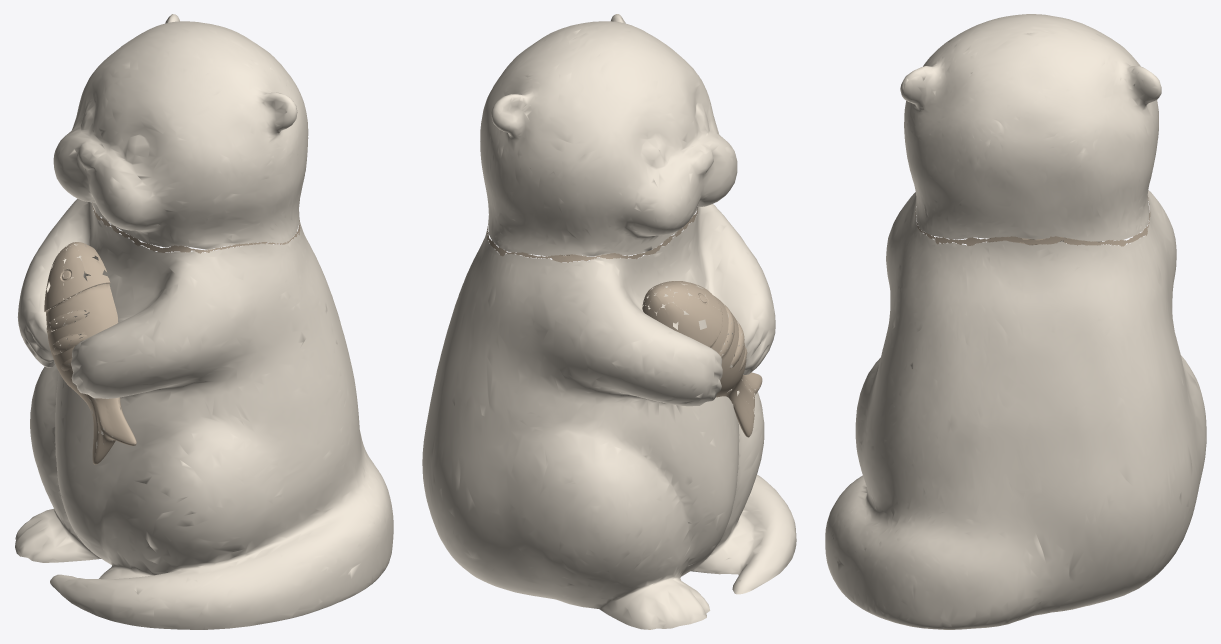
The model's file is otta.glb.
3 views of the same model, side by side, from view 1: azimuth 30°, elevation 25°; view 2: azimuth 150°, elevation 25°; view 3: azimuth 270°, elevation 25° (orthographic). The views are drawn at different scales.
Visible parts, largest first — view 1: Node; view 2: Node; view 3: Node.
Part boxes in pixels (<box>): Node: <box>15,14,393,629</box>; Node: <box>422,14,796,629</box>; Node: <box>825,14,1206,629</box>.
Bounding box in the file's own units: 6.74 × 10.91 × 7.04.
